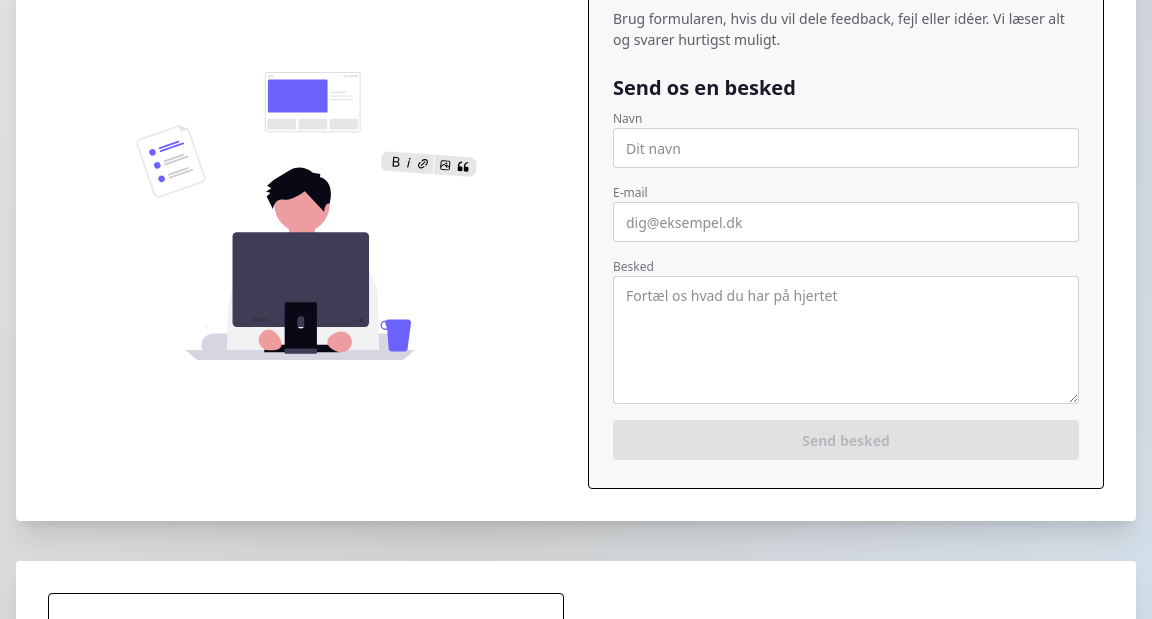
Test: Contact view › enables send button when message is typed
(page scrolled)
Expected: the button "Send besked" is disabled, x1=613 y1=420 x2=1079 y2=460
Type "Hej der" into the text box labelled "Besked" at (846, 340), box x1=613 y1=276 x2=1079 y2=404
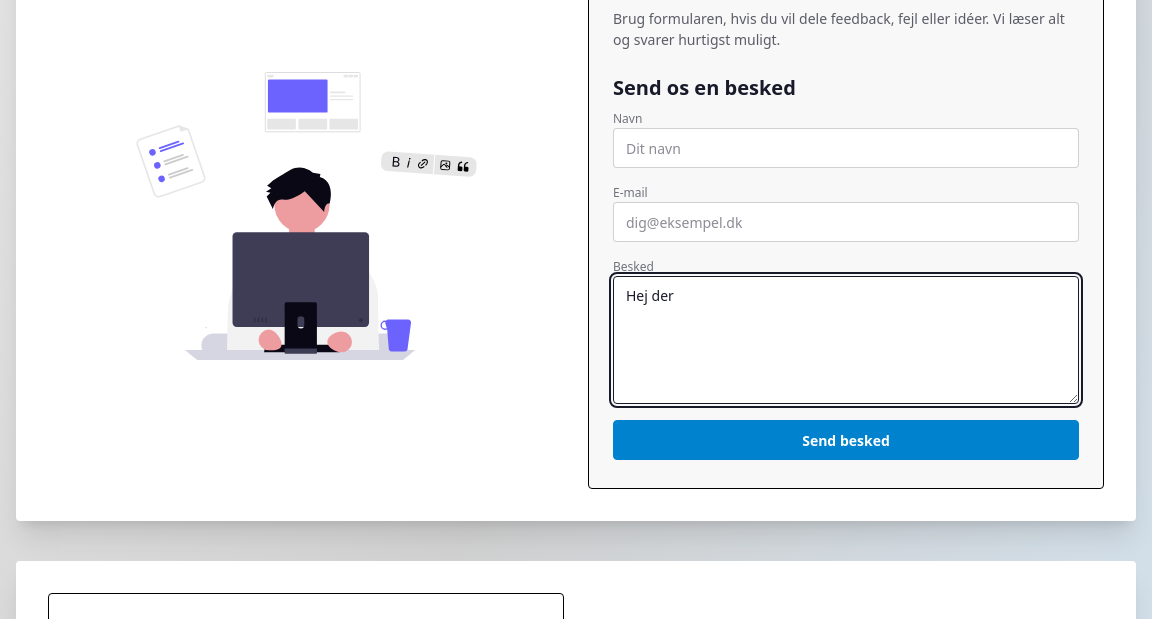
Expected: the button "Send besked" is enabled, x1=613 y1=420 x2=1079 y2=460
